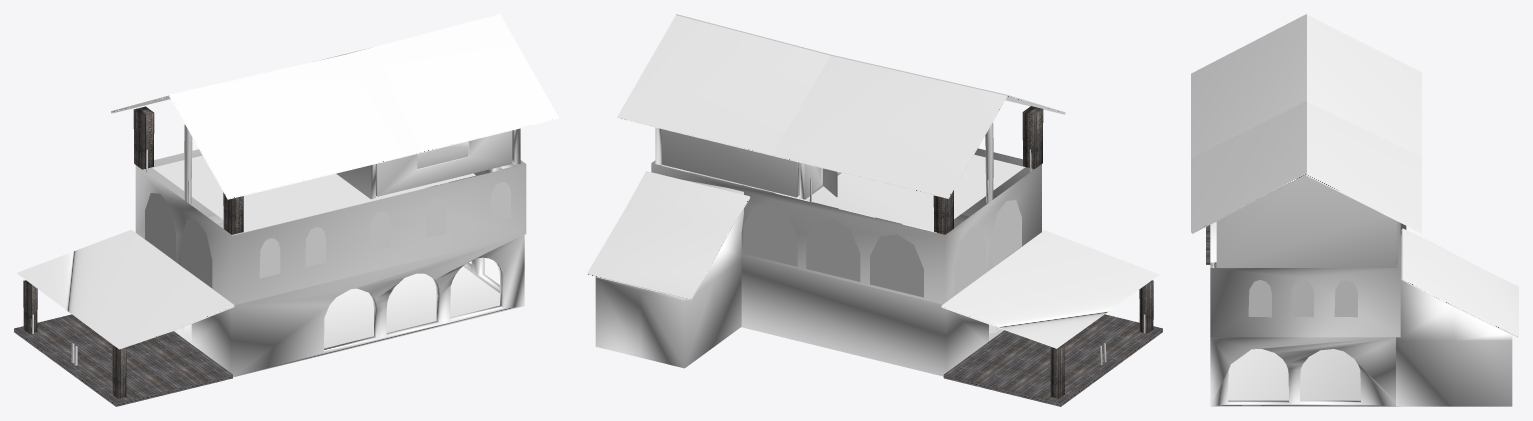
File: tavern_main_LOD2.fbx
3 renders of one model, left to right at view 1: azimuth 30°, elevation 25°; view 2: azimuth 150°, elevation 25°; view 3: azimuth 270°, elevation 25°, orthographic.
Visible parts, largest first — view 1: Default_Layer; view 2: Default_Layer; view 3: Default_Layer.
Part boxes in pixels (x1,y1,x2,y2): Default_Layer: [14, 14, 558, 406]; Default_Layer: [587, 14, 1162, 406]; Default_Layer: [1191, 14, 1518, 406].
Size of the model in its own units: 3391 by 1875 by 2250.
Materials: 6 (1 with a texture image).
